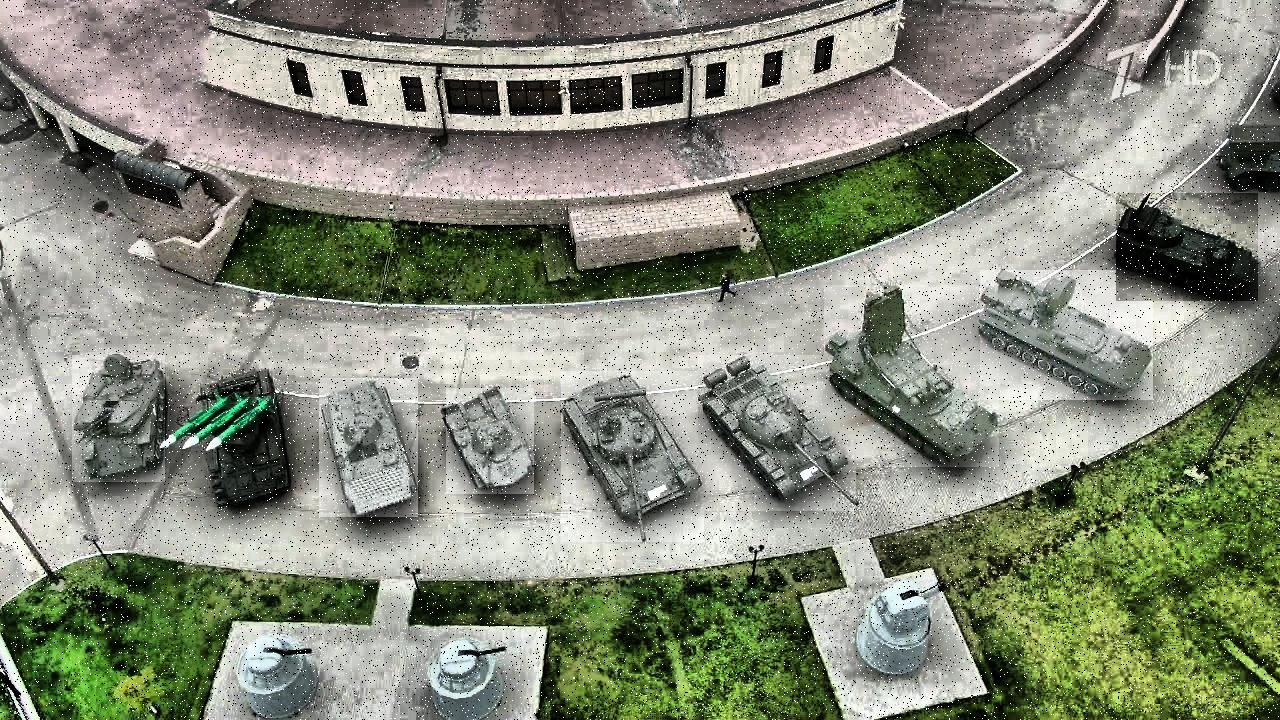military-vehicle: (824, 286, 999, 468), (699, 356, 857, 512), (561, 371, 704, 542), (980, 270, 1153, 400), (170, 370, 296, 508), (1117, 193, 1259, 301), (320, 379, 419, 518), (73, 356, 166, 483), (446, 388, 534, 494)
